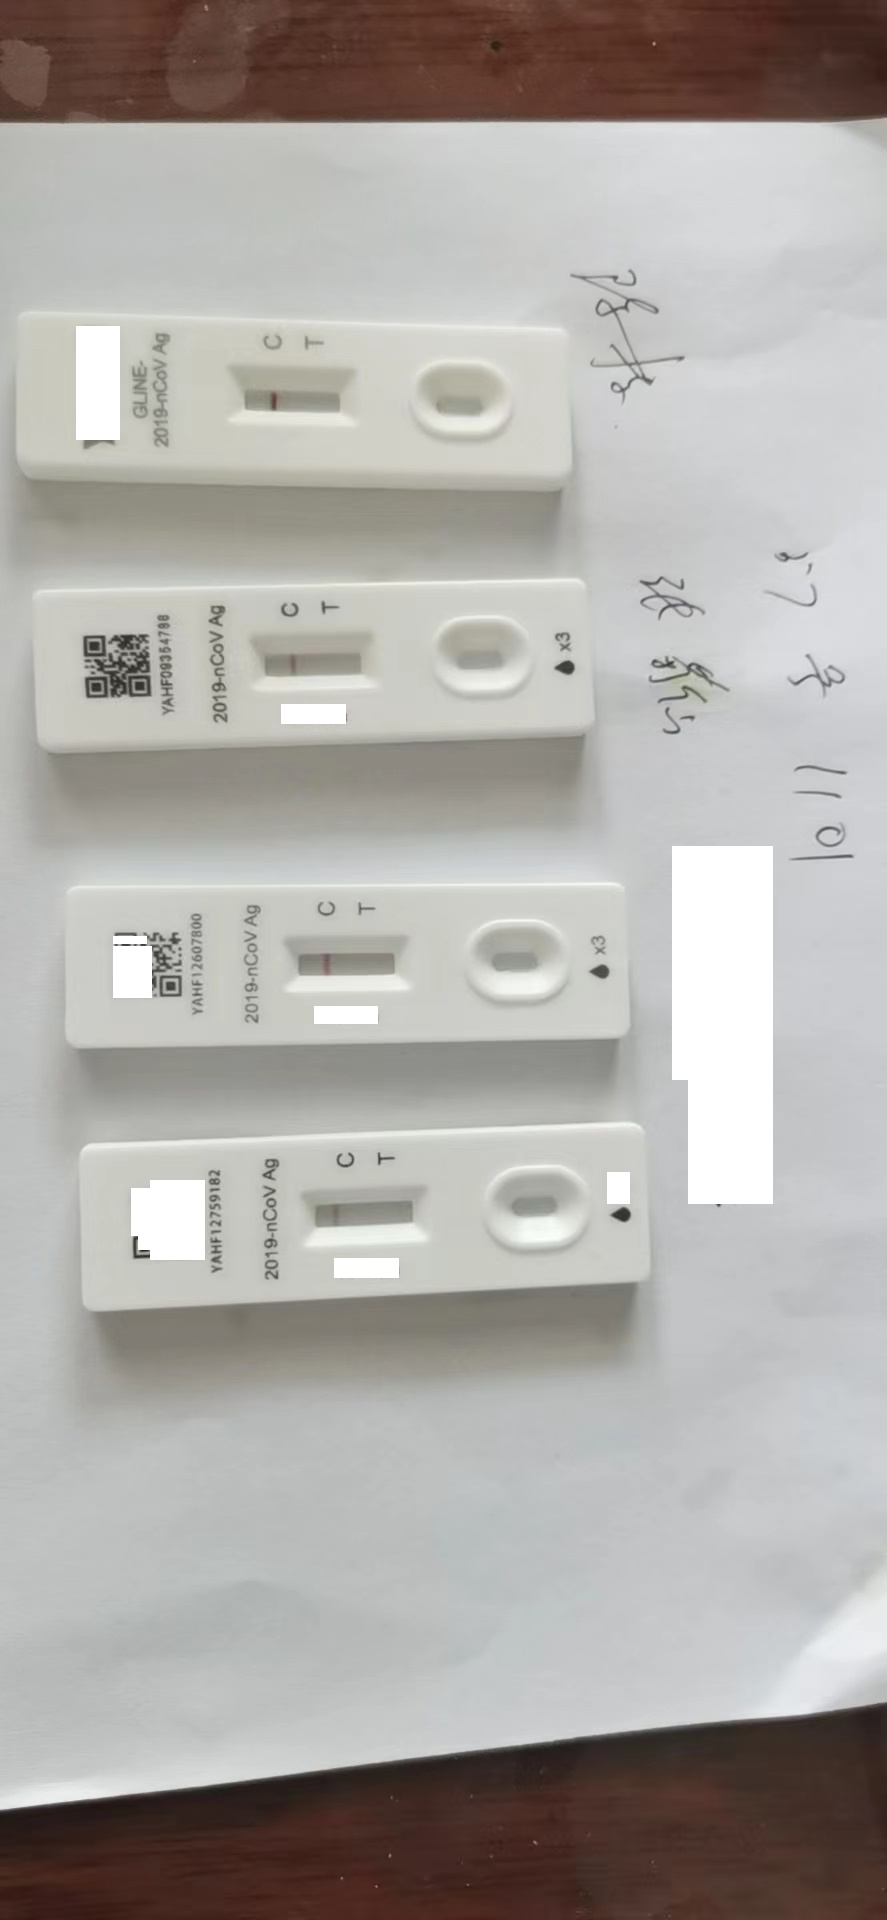negative: (254, 628, 376, 687), (284, 936, 410, 987)
